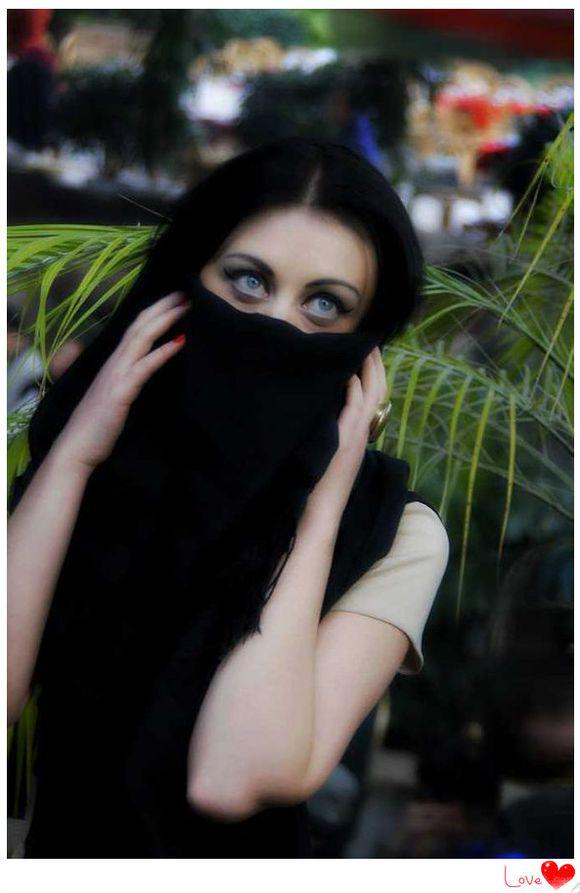OK: (184, 239, 374, 429)
